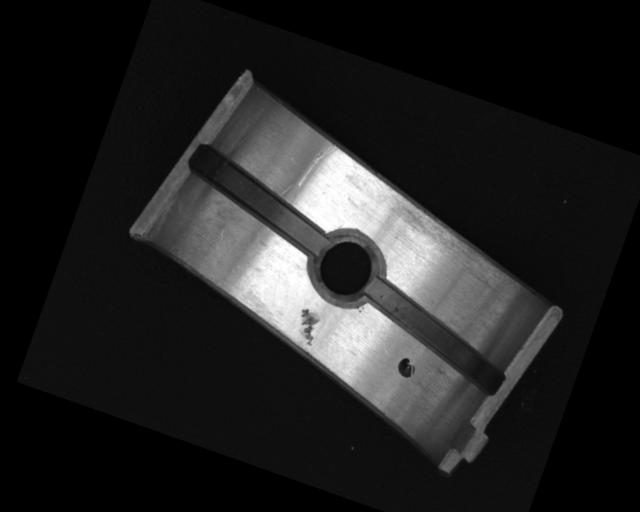blot: (394, 356, 417, 380)
bruise: (290, 306, 324, 347)
gap: (348, 274, 524, 398), (175, 142, 343, 257)
hole: (302, 222, 393, 309)
nick: (298, 135, 338, 193)
scratch: (368, 187, 525, 295)
